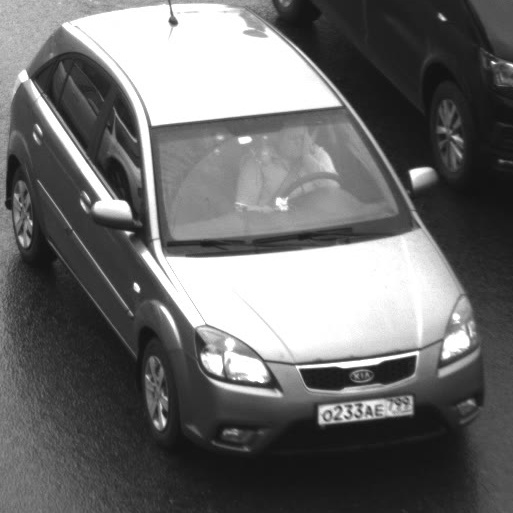plate: (308, 384, 421, 432)
